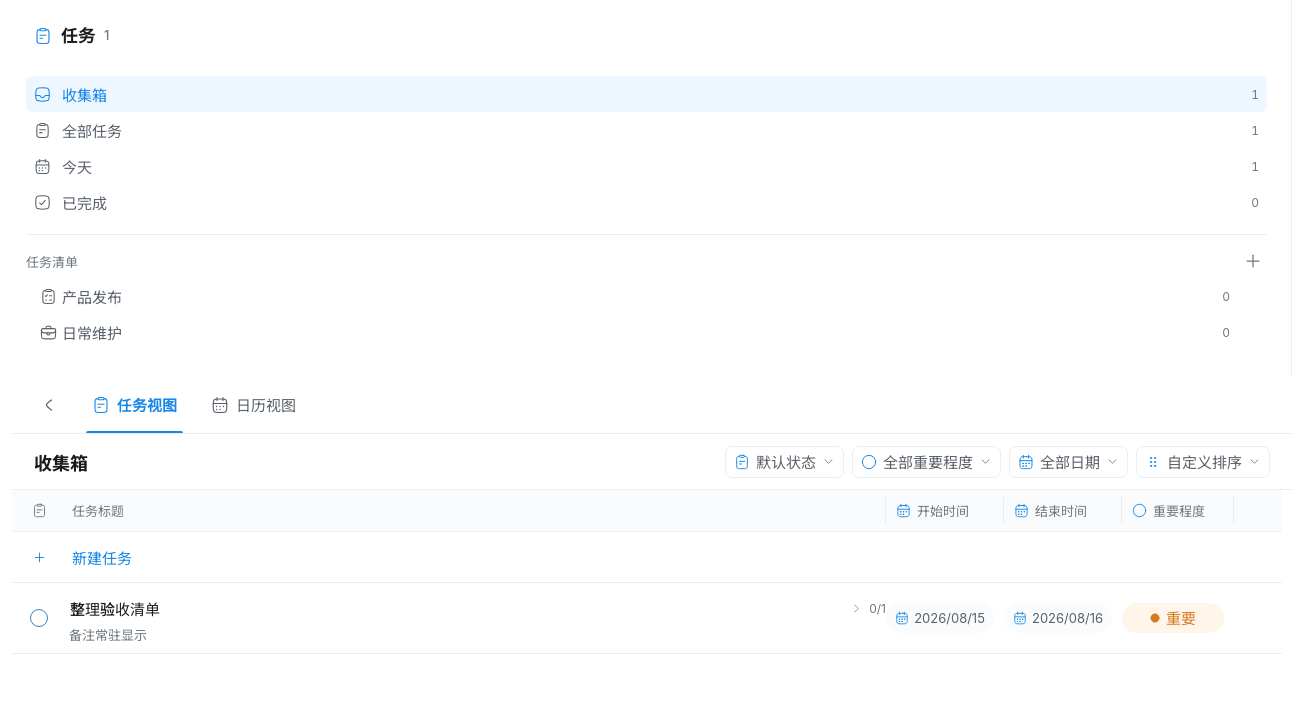
TaskWorkspace › closes task details when pointer down happens outside the task and detail panel
Click the field showing "整理验收清单": (453, 608) [62, 591, 844, 625]
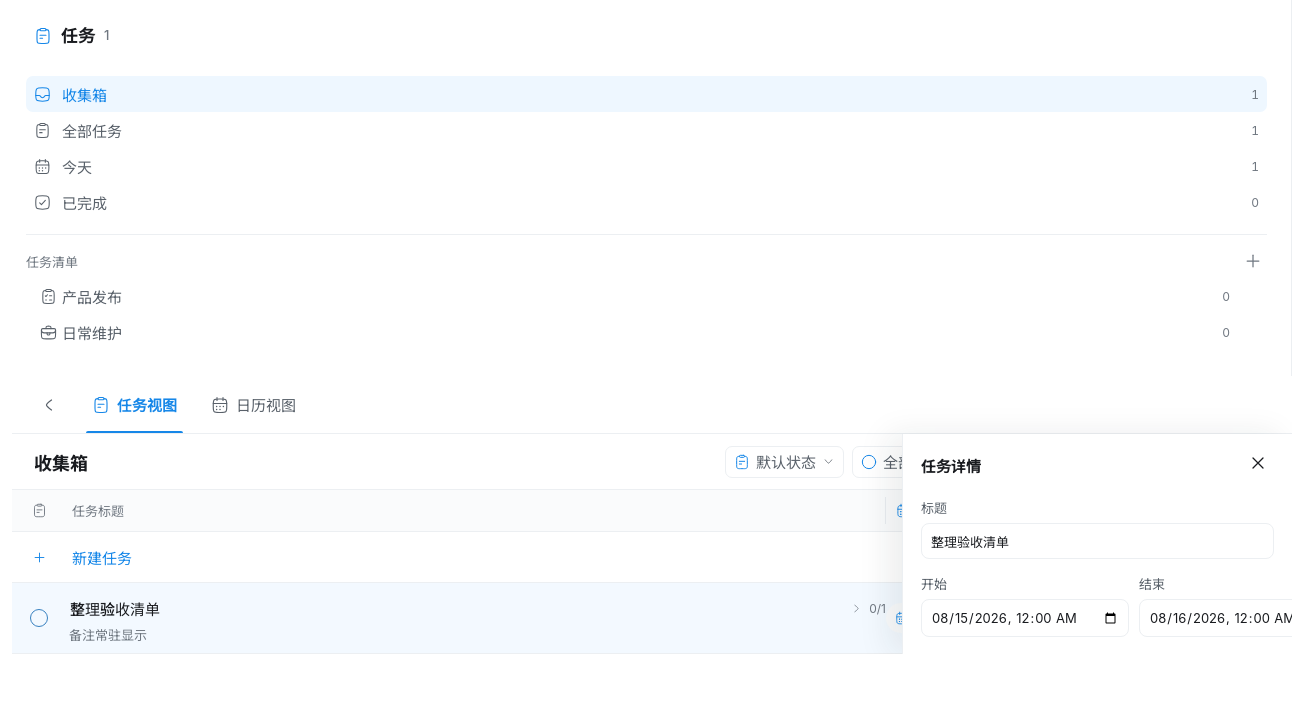
Check: the text "任务详情" is shown, box [921, 454, 981, 476]
Press the mouse on the element that starts with "收集箱": (652, 360) [12, 0, 1292, 719]
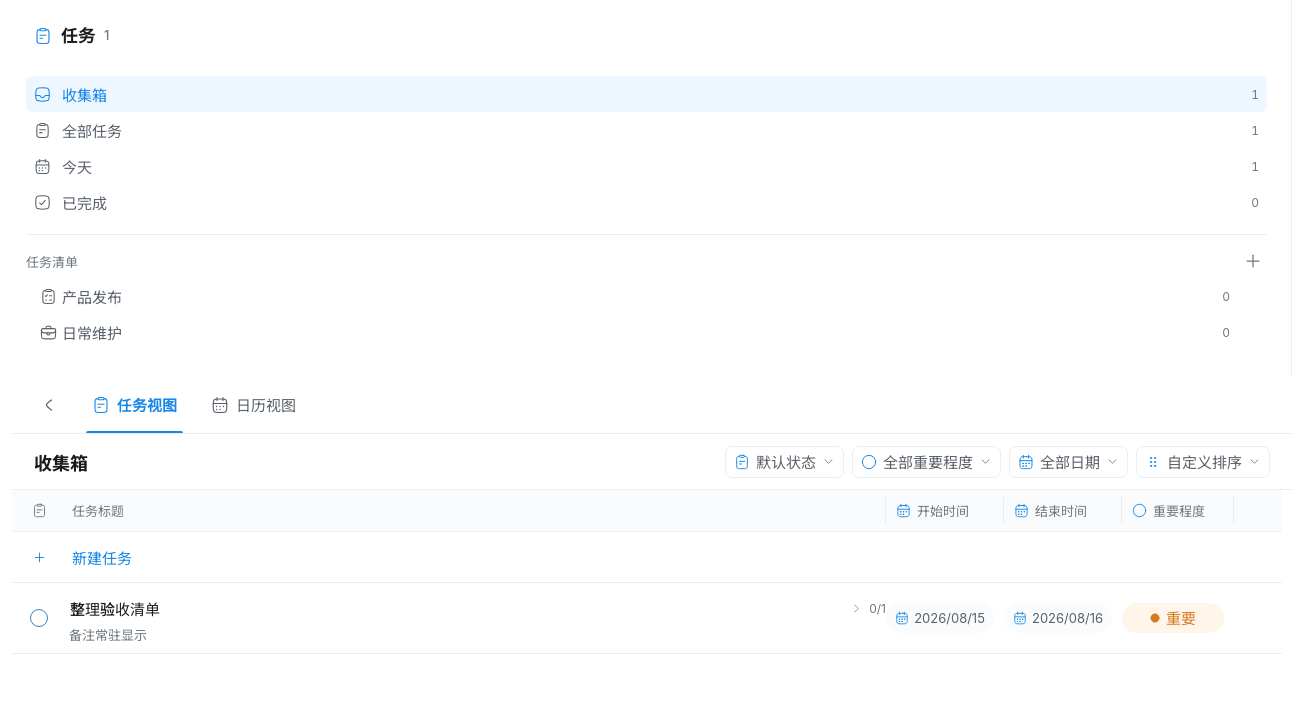
Check: the text "任务详情" is gone
